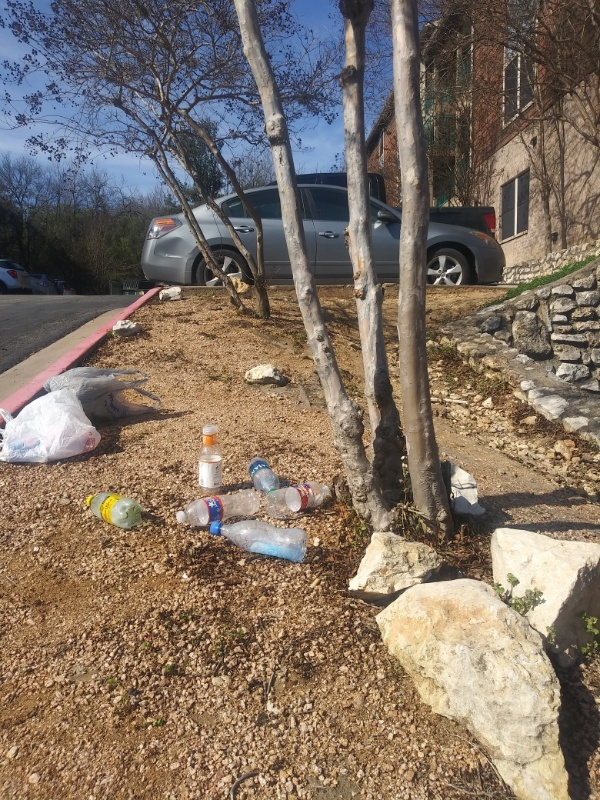bottle: (207, 519, 309, 564), (171, 487, 263, 532), (78, 487, 148, 534), (261, 478, 334, 521), (192, 423, 230, 498), (244, 454, 285, 494)
